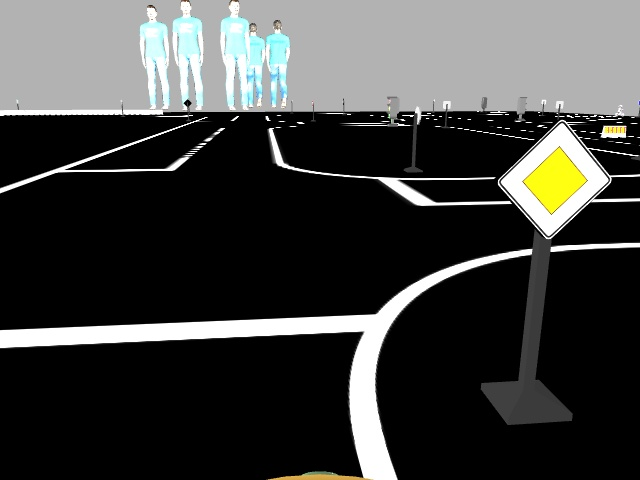ClosedRoadStand: (598, 122, 630, 138)
Priority: (494, 120, 613, 239)
